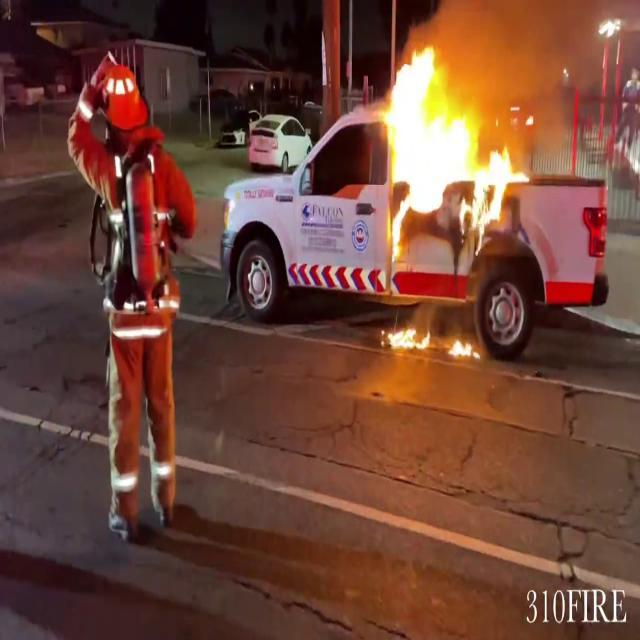Fire: (376, 39, 522, 264), (382, 314, 482, 356), (382, 315, 433, 355), (443, 326, 481, 359)
